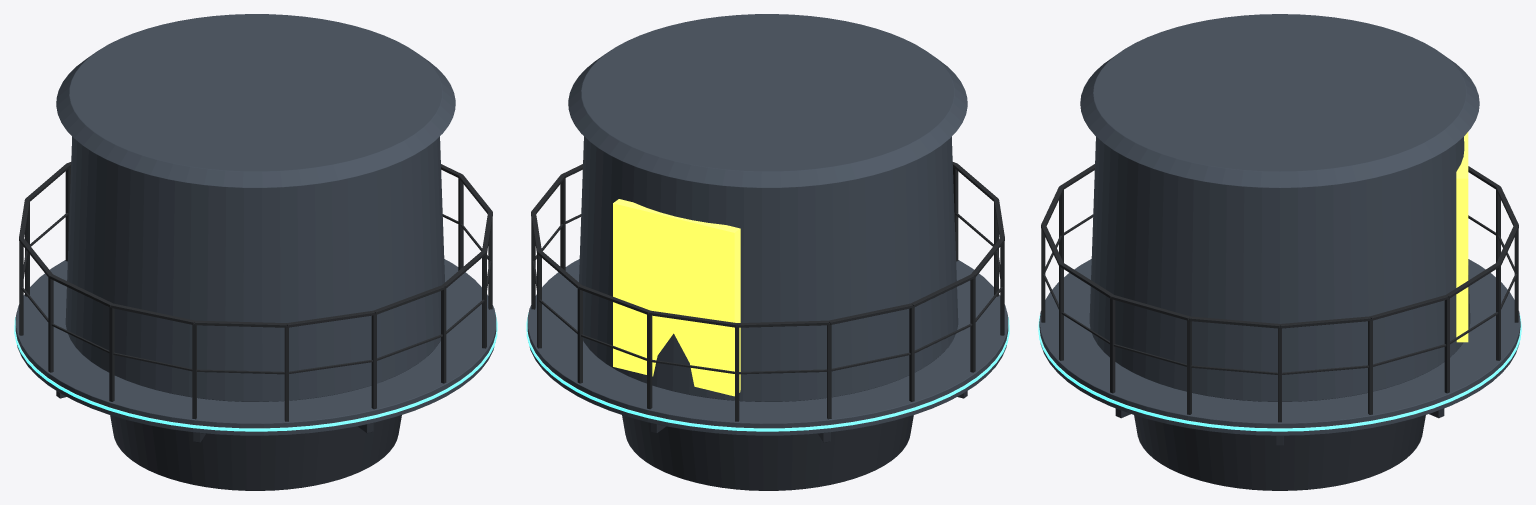
File: cantina_02_upper_tower.glb
3 views of the same model, side by side, from view 1: azimuth 30°, elevation 25°; view 2: azimuth 150°, elevation 25°; view 3: azimuth 270°, elevation 25° (orthographic).
Visible parts, largest first — view 1: Tower_Room_Core, Tower_Balcony_Deck, Tower_Underside_Supports, Tower_Safety_Railing, Tower_Cyan_Light_Ring; view 2: Tower_Room_Core, Tower_Balcony_Deck, Tower_Interior_Amber_Light, Tower_Underside_Supports, Tower_Safety_Railing, Tower_Cyan_Light_Ring; view 3: Tower_Room_Core, Tower_Balcony_Deck, Tower_Underside_Supports, Tower_Safety_Railing, Tower_Interior_Amber_Light, Tower_Cyan_Light_Ring.
Part boxes in pixels (x1,y1,x2,y2): Tower_Room_Core: [56, 14, 455, 401]; Tower_Balcony_Deck: [15, 259, 496, 435]; Tower_Underside_Supports: [56, 391, 401, 490]; Tower_Safety_Railing: [19, 162, 492, 421]; Tower_Cyan_Light_Ring: [14, 313, 497, 431]; Tower_Room_Core: [568, 14, 967, 401]; Tower_Balcony_Deck: [527, 259, 1008, 435]; Tower_Interior_Amber_Light: [613, 199, 740, 396]; Tower_Underside_Supports: [622, 391, 967, 490]; Tower_Safety_Railing: [531, 162, 1004, 421]; Tower_Cyan_Light_Ring: [526, 313, 1009, 431]; Tower_Room_Core: [1080, 14, 1479, 401]; Tower_Balcony_Deck: [1039, 259, 1520, 435]; Tower_Underside_Supports: [1115, 408, 1444, 490]; Tower_Safety_Railing: [1041, 164, 1518, 422]; Tower_Interior_Amber_Light: [1456, 132, 1468, 342]; Tower_Cyan_Light_Ring: [1038, 314, 1521, 431].
Bounding box in the file's own units: 4.82 × 3.72 × 4.82.
